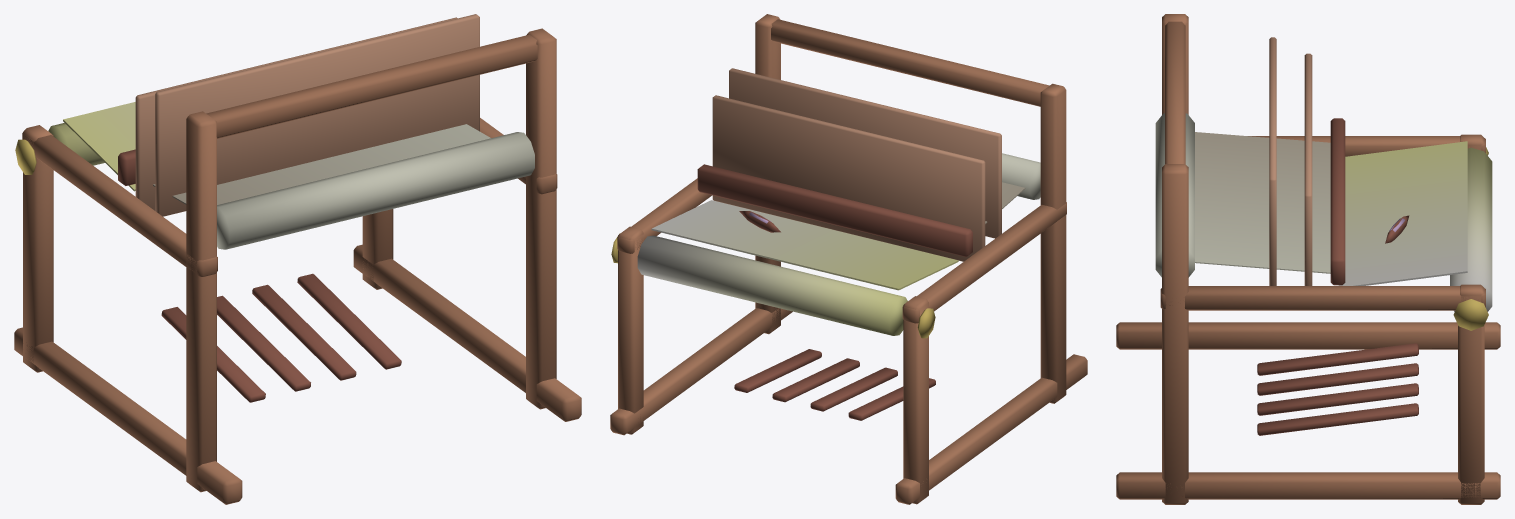
The model's file is seam_loom.glb.
The picture shows the model from 3 angles, left to right: view 1: azimuth 30°, elevation 25°; view 2: azimuth 150°, elevation 25°; view 3: azimuth 270°, elevation 25°; orthographic projection. The views are drawn at different scales.
Visible parts, largest first — view 1: seam_loom; view 2: seam_loom; view 3: seam_loom.
Part boxes in pixels (x1=…): seam_loom: x1=14, y1=14, x2=581, y2=504; seam_loom: x1=610, y1=14, x2=1087, y2=504; seam_loom: x1=1116, y1=14, x2=1500, y2=504.
Size of what is drawn, in the model's own units: 1.31 by 1.25 by 1.3.
